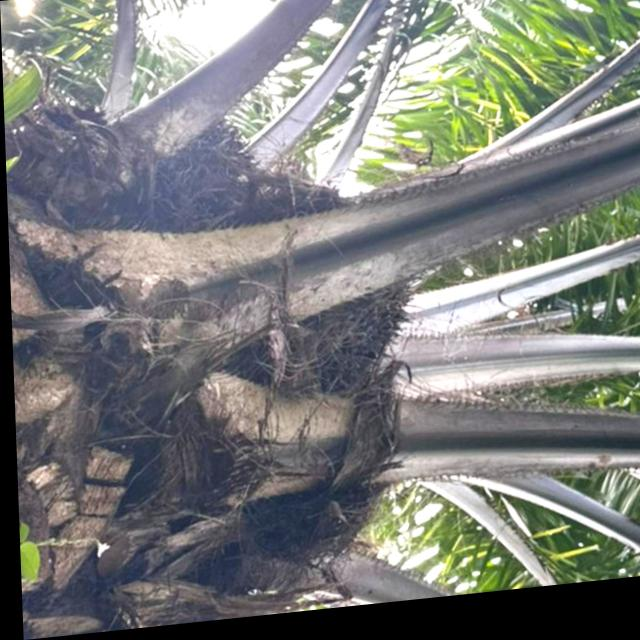almost: (209, 175, 412, 393), (109, 114, 262, 242)
